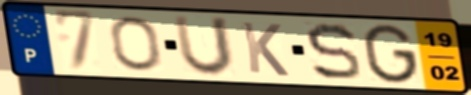7: (51, 9, 98, 75)
G: (362, 22, 421, 86)
K: (238, 20, 292, 79)
O: (107, 15, 165, 74)
S: (302, 21, 364, 83)
U: (170, 13, 237, 79)
